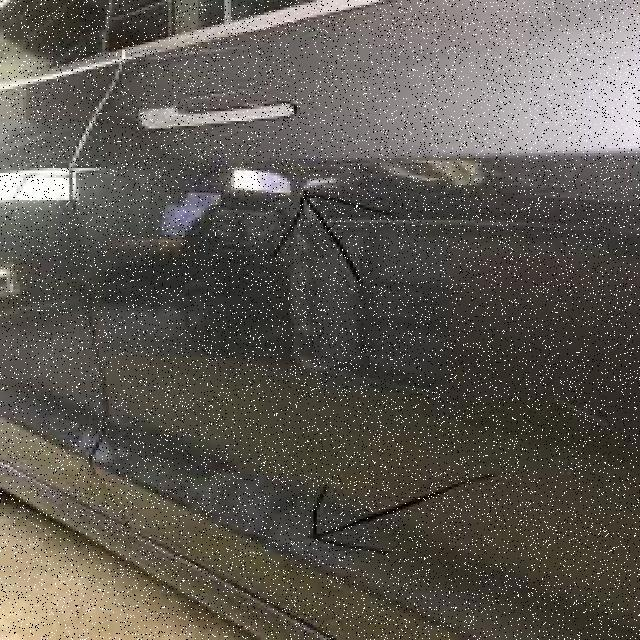doorouter-dent: (89, 57, 634, 610)
